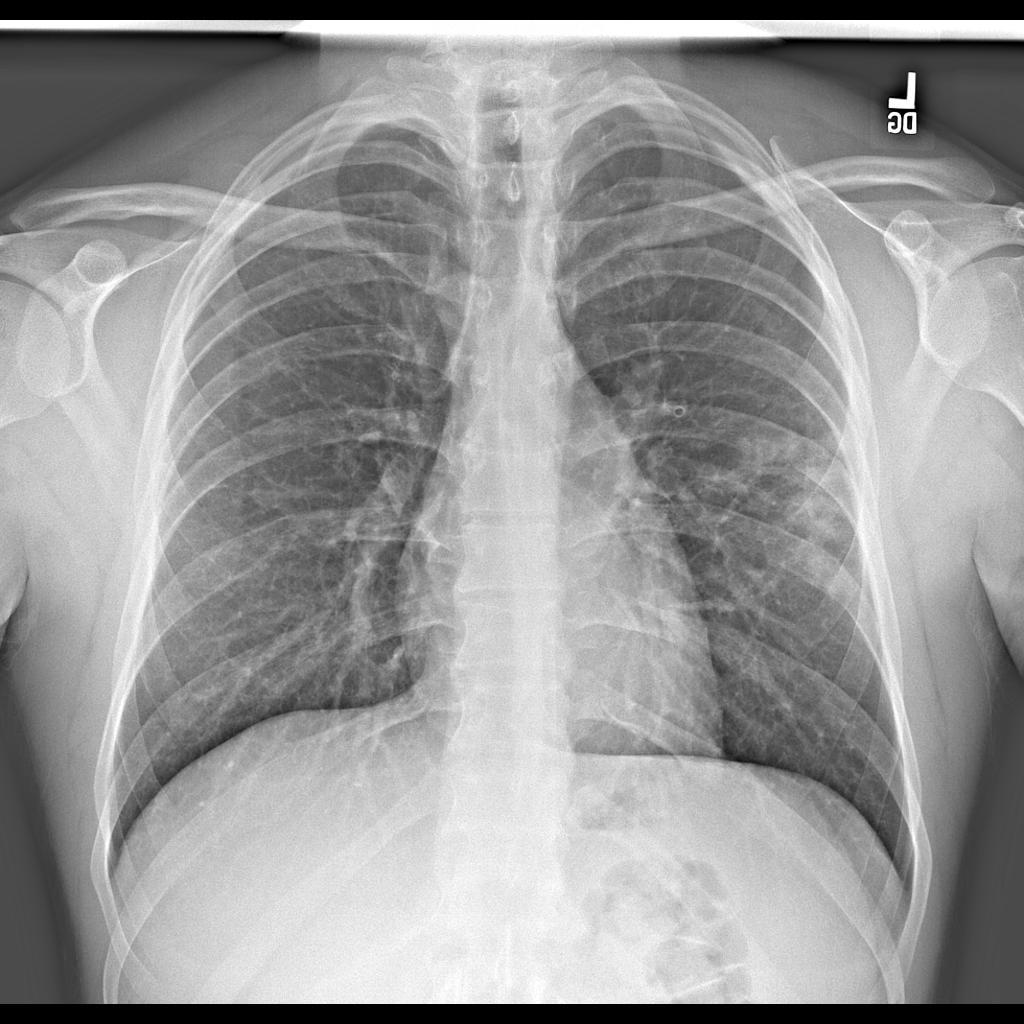Nodule: (736, 423, 840, 490), (778, 480, 839, 545), (696, 462, 738, 508)
